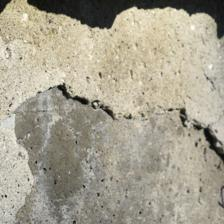Crack: (60, 72, 122, 152), (101, 18, 150, 70)
